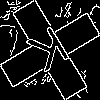K: (25, 25, 77, 81)
